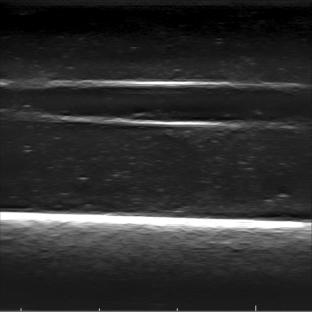vessel: (16, 79, 284, 128)
